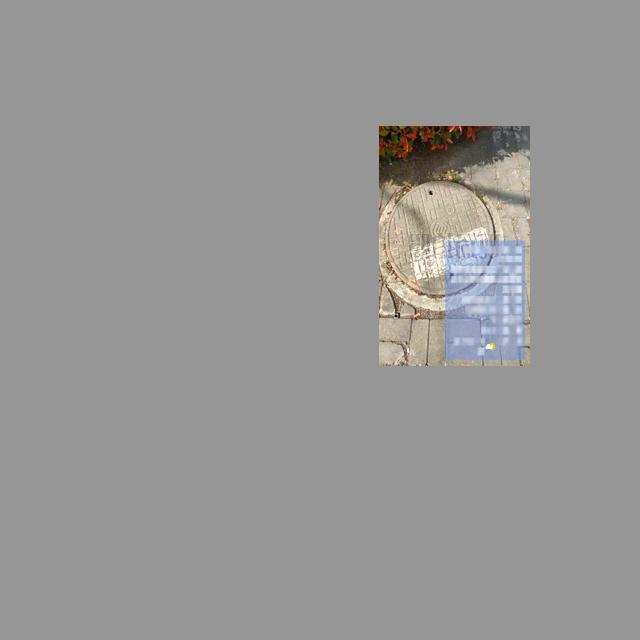circle: (382, 174, 498, 305)
